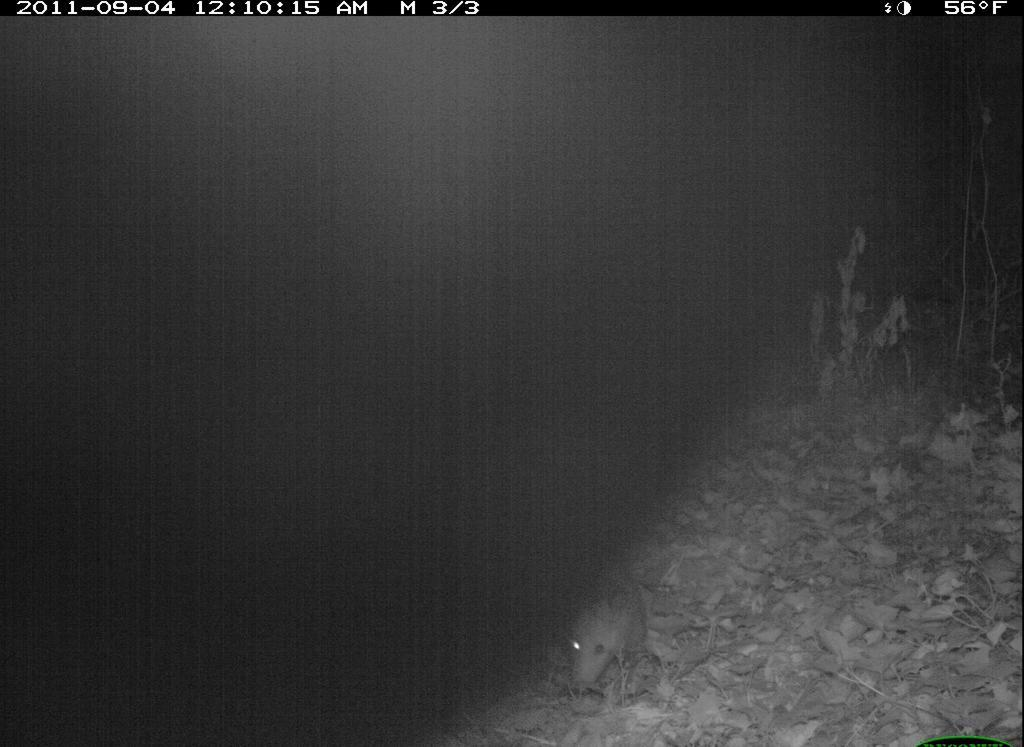opossum: (545, 570, 679, 704)
